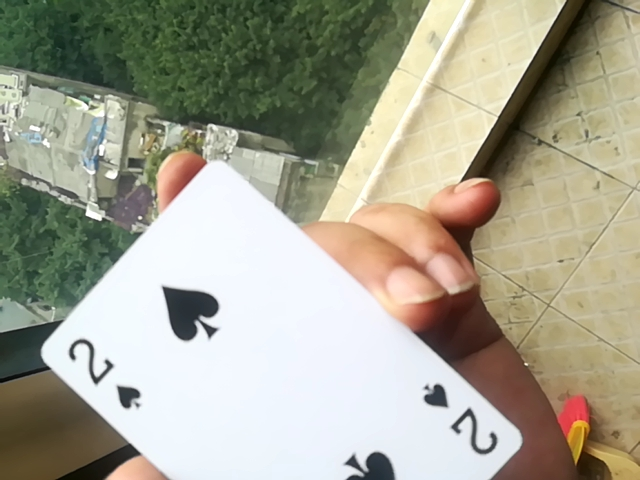ht 2: (17, 158, 517, 480)
